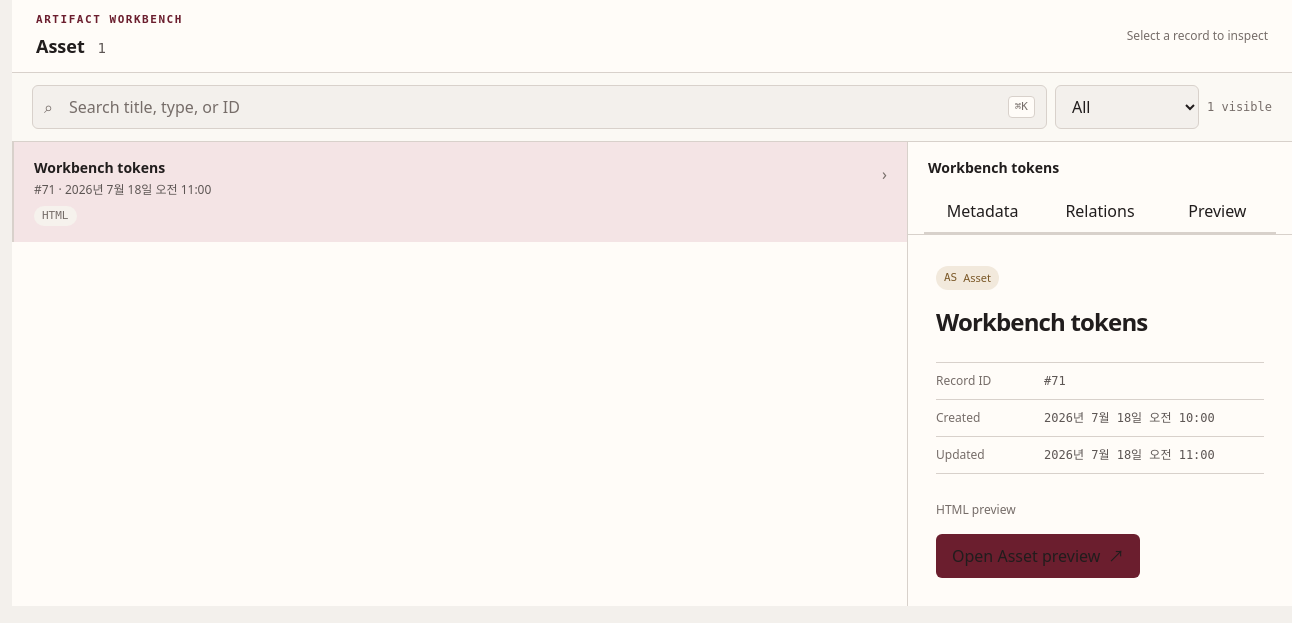
Test: ArtifactBrowser › 선택 record를 Metadata, Relations, Preview 탭으로 검사한다
Click the tab "Relations" at [1100, 212], box [1041, 190, 1159, 234]
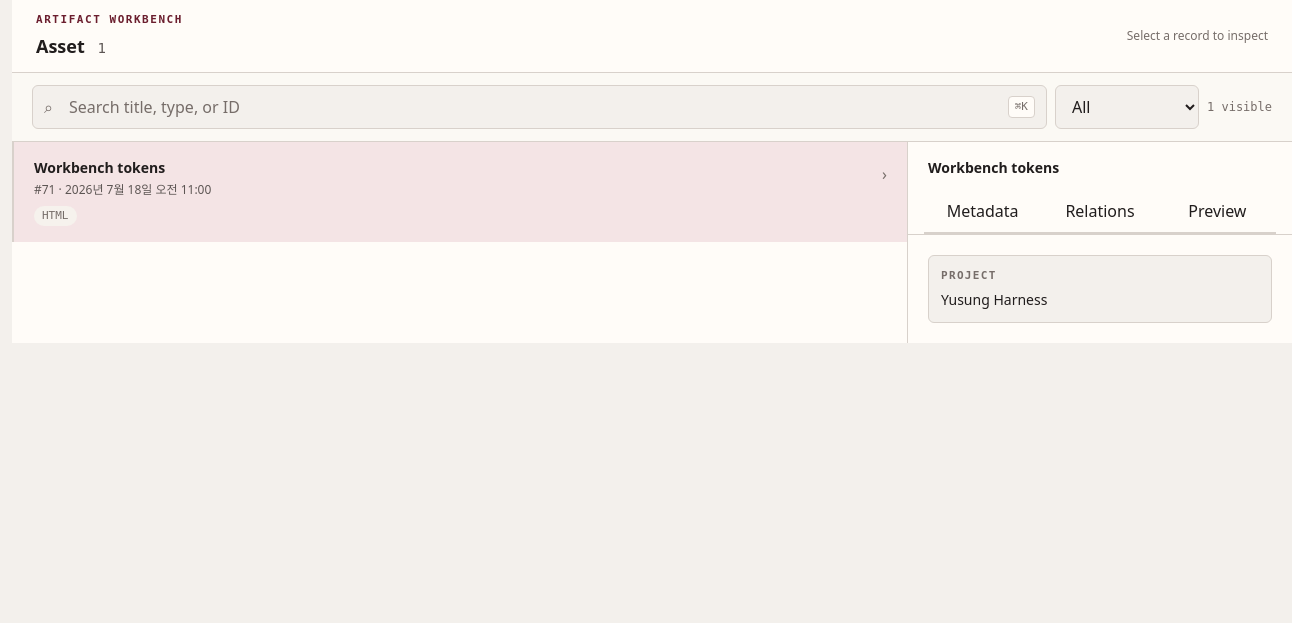
Expected: the text "Yusung Harness" is shown, [941, 290, 1047, 309]
Click the tab "Preview" at [1217, 212], box [1159, 190, 1276, 234]
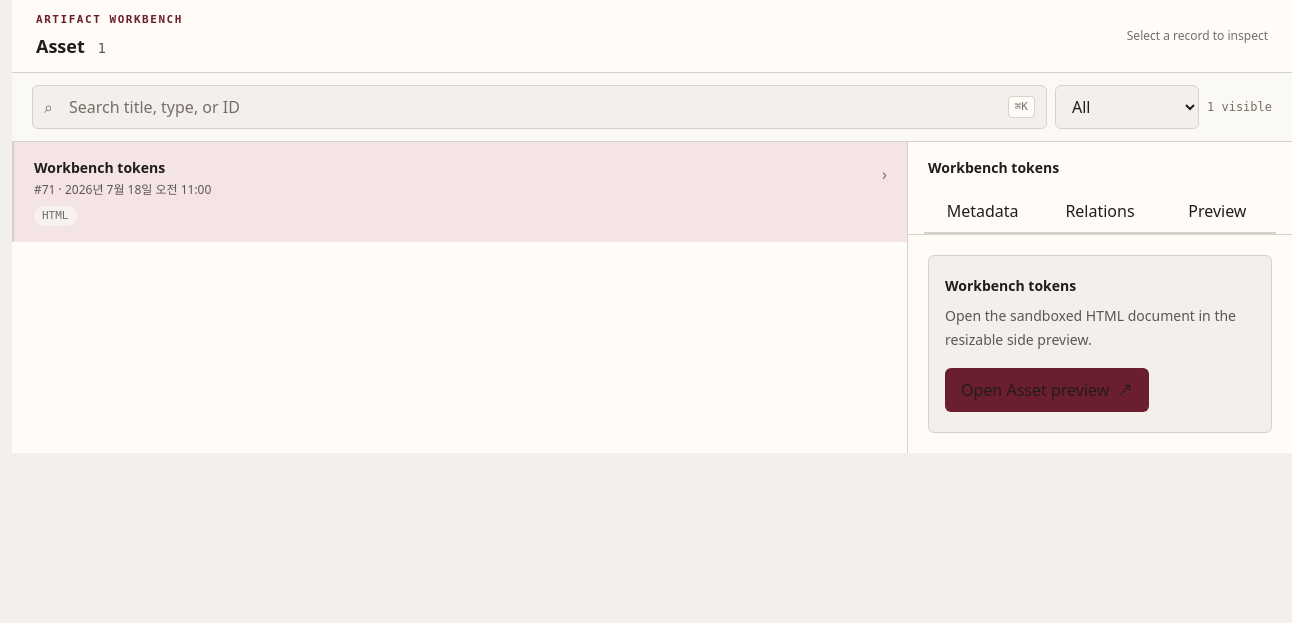
Expected: the button "Open Asset preview ↗" is shown, [945, 368, 1149, 412]
